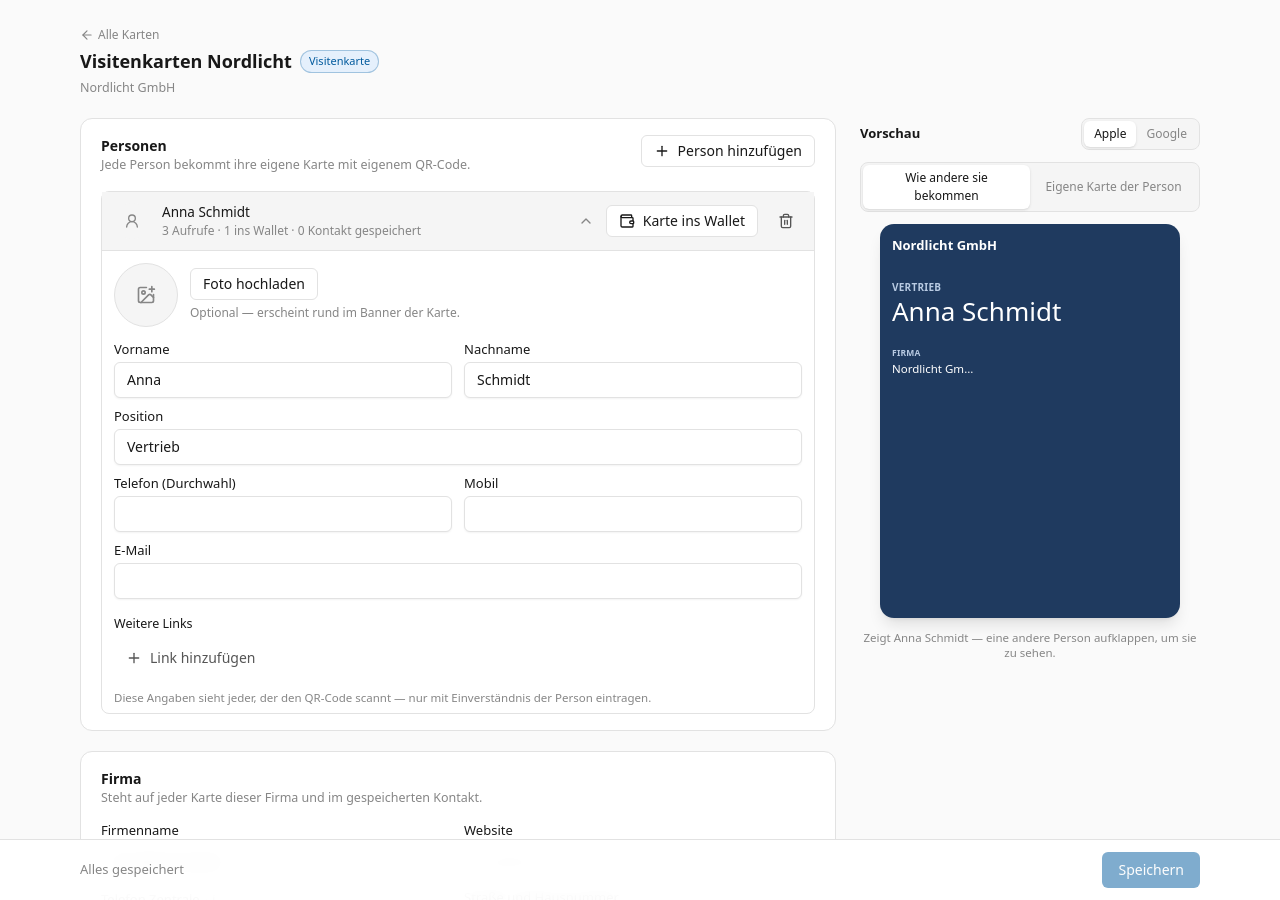
Test case: BusinessCardEditor › shows server errors at the field
Type "x" into the field labelled "E-Mail" at (458, 581), box top-left (114, 563), bottom-right (802, 599)
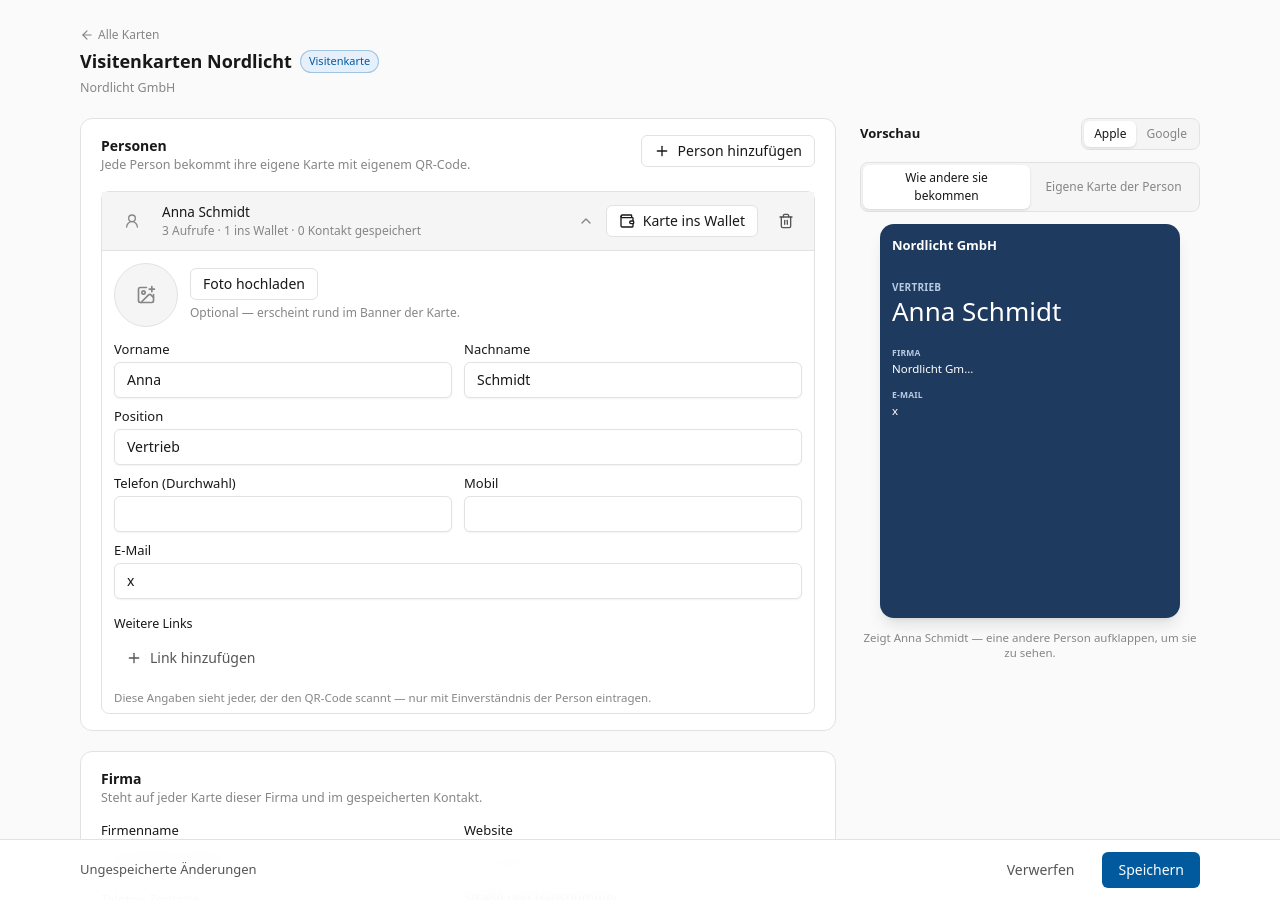
Click the button "Speichern" at (1151, 870), box top-left (1102, 852), bottom-right (1200, 888)
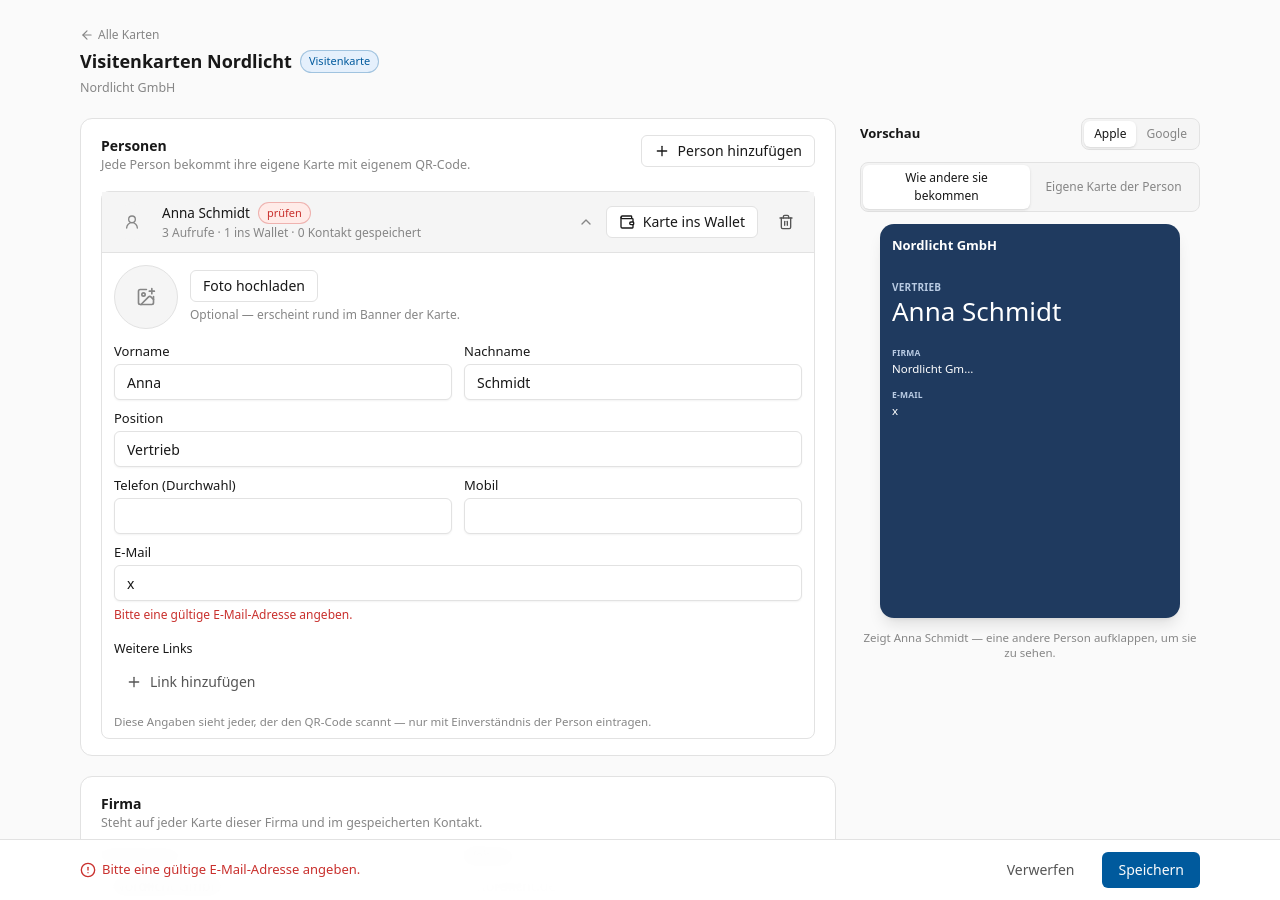
Result: the text "Bitte eine gültige E-Mail-Adresse angeben." is shown at top-left (114, 606), bottom-right (352, 623)
Result: the text "prüfen" is shown at top-left (258, 202), bottom-right (311, 224)
